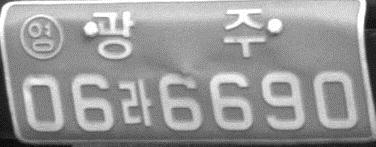0: (312, 70, 358, 130), (21, 75, 65, 133)
6: (158, 72, 203, 133), (70, 73, 115, 133), (208, 71, 253, 131)
9: (260, 70, 306, 131)
광주_D: (90, 7, 267, 61)
라: (116, 77, 154, 128)
영: (18, 12, 64, 60)
